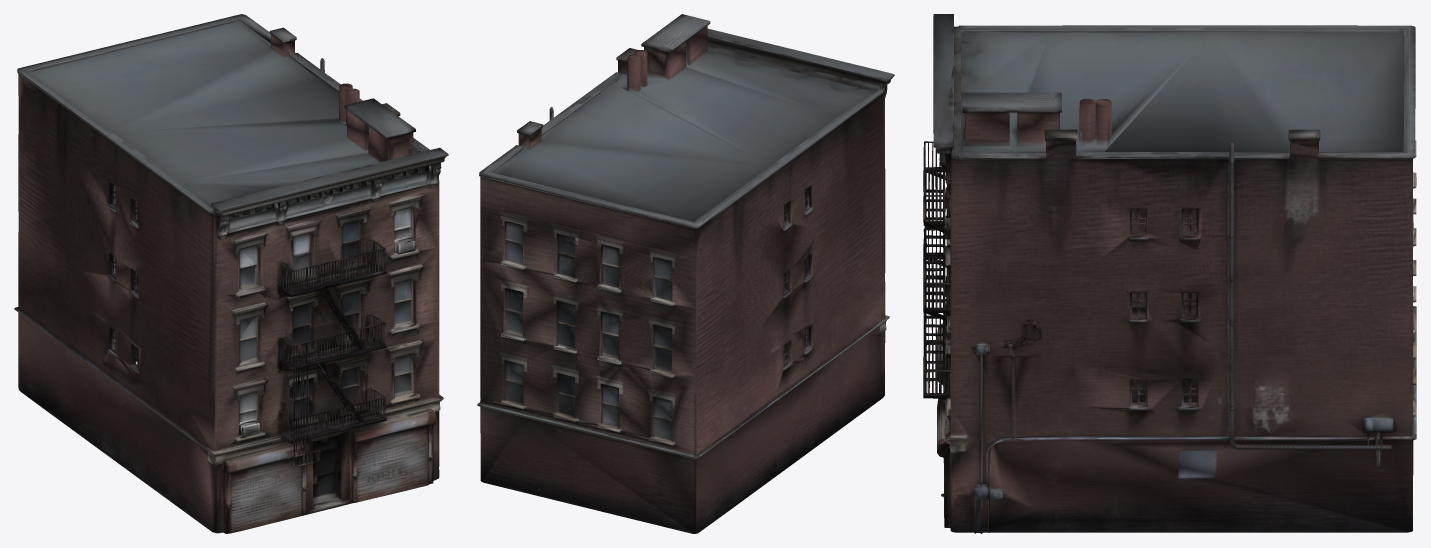
The model's file is walkup_4storey.glb.
3 renders of one model, left to right at view 1: azimuth 30°, elevation 25°; view 2: azimuth 150°, elevation 25°; view 3: azimuth 270°, elevation 25°, orthographic. The views are drawn at different scales.
Visible parts, largest first — view 1: node_0; view 2: node_0; view 3: node_0.
Boxes of the visible parts, x1=… form: node_0: x1=14, y1=14, x2=448, y2=533; node_0: x1=477, y1=14, x2=894, y2=533; node_0: x1=923, y1=14, x2=1416, y2=533.
Bounding box in the file's own units: 0.5184 × 0.7553 × 0.811.
Materials: 1 (1 with a texture image).
